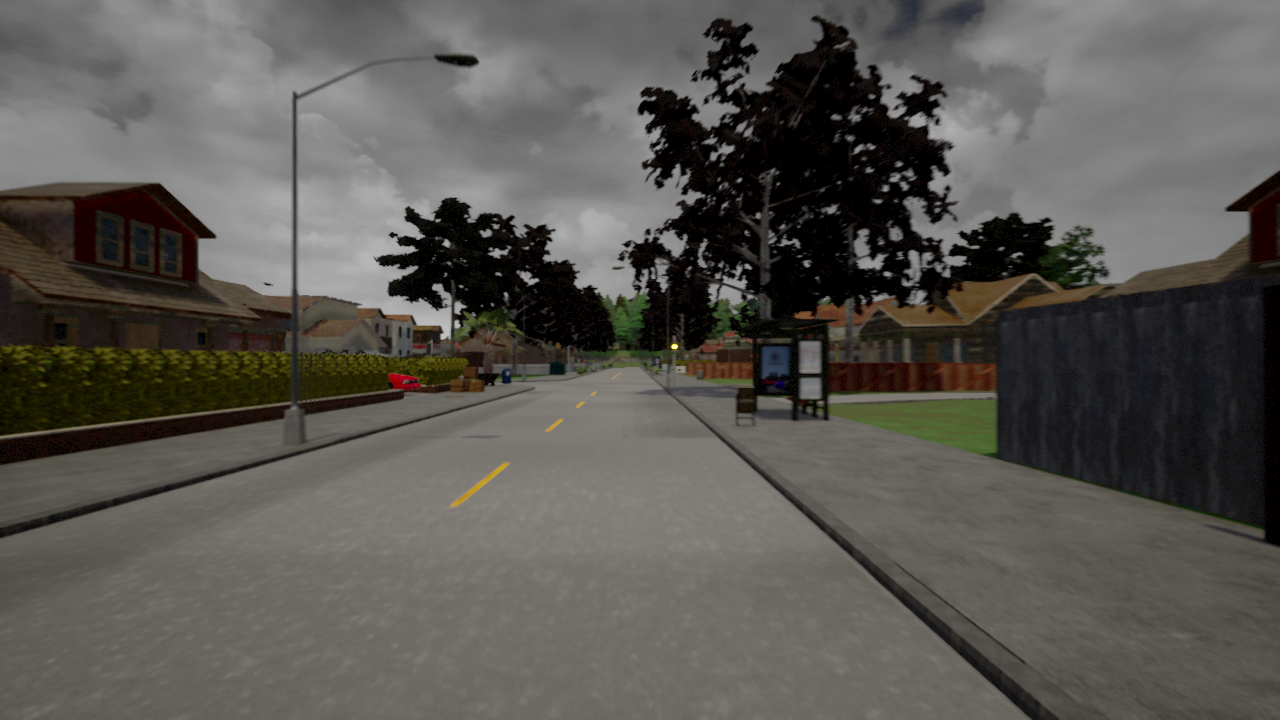yellow: (671, 339, 679, 355)
